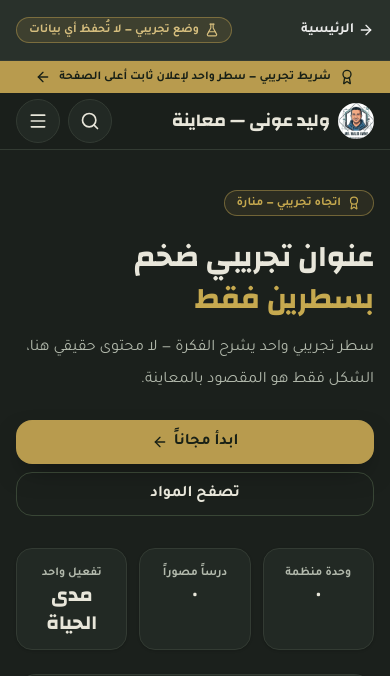
Scenario: LabsRedesignPage › opens the mobile drawer as a dialog and closes it with Escape
Click the button named "فتح القائمة" at (38,121), box [16,99,60,143]
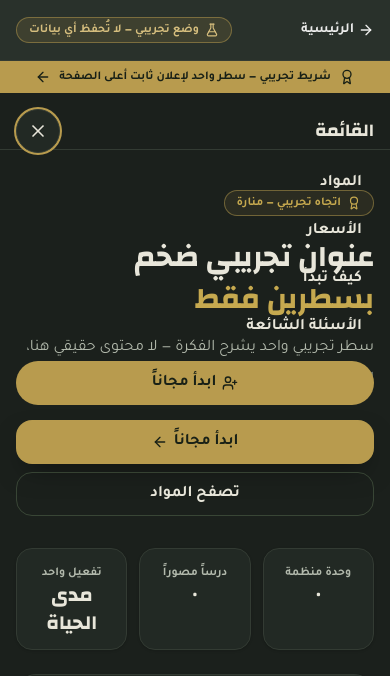
Press Escape
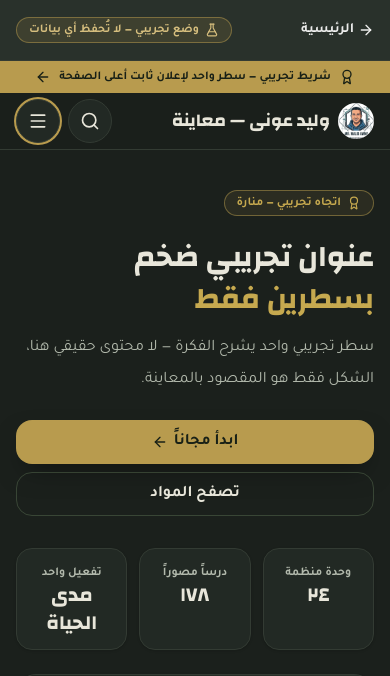
Expected: the dialog with test id "redesign-drawer" is gone
